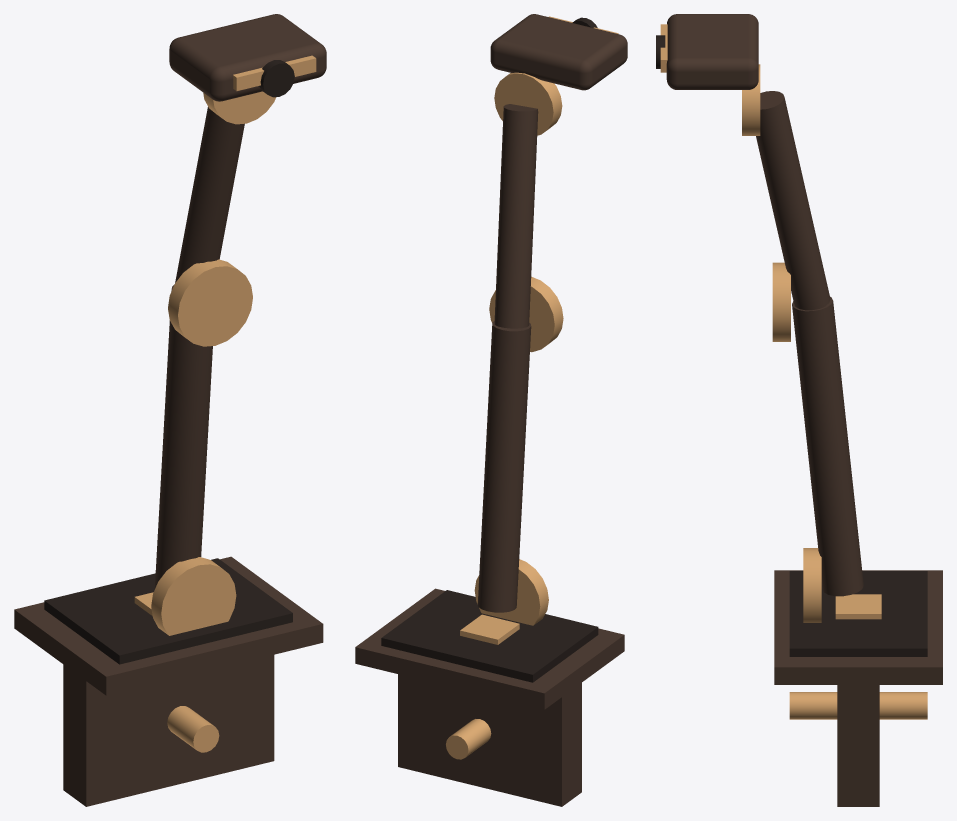
3 views of the same model, side by side, from view 1: azimuth 30°, elevation 25°; view 2: azimuth 150°, elevation 25°; view 3: azimuth 270°, elevation 25° (orthographic). The views are drawn at different scales.
Parts seen in each view (by area): view 1: mount-clamp-jaw, mount-frame, mount-arm-lower, mount-clearance, camera-cradle, mount-arm-upper, mount-pivot-mid, mount-pivot-lower, mount-screw, mount-pivot-upper, mount-rubber, mount-trim; view 2: mount-clamp-jaw, mount-arm-lower, mount-clearance, mount-frame, mount-arm-upper, camera-cradle, mount-pivot-upper, mount-pivot-mid, mount-pivot-lower, mount-screw, mount-anchor; view 3: mount-arm-lower, mount-clearance, mount-arm-upper, mount-frame, camera-cradle, mount-clamp-jaw, mount-screw, mount-pivot-mid, mount-pivot-lower, mount-anchor, mount-pivot-upper.
Part boxes in pixels (bbox=[...]): mount-clamp-jaw: bbox=[63, 655, 274, 806]; mount-frame: bbox=[14, 556, 323, 695]; mount-arm-lower: bbox=[154, 284, 212, 588]; mount-clearance: bbox=[44, 558, 292, 664]; camera-cradle: bbox=[169, 14, 326, 101]; mount-arm-upper: bbox=[175, 107, 244, 282]; mount-pivot-mid: bbox=[168, 259, 252, 346]; mount-pivot-lower: bbox=[151, 557, 236, 635]; mount-screw: bbox=[167, 706, 219, 752]; mount-pivot-upper: bbox=[203, 91, 275, 124]; mount-rubber: bbox=[259, 60, 294, 97]; mount-trim: bbox=[233, 55, 316, 91]; mount-clamp-jaw: bbox=[398, 674, 581, 806]; mount-arm-lower: bbox=[477, 321, 531, 612]; mount-clearance: bbox=[381, 590, 598, 682]; mount-frame: bbox=[355, 588, 624, 709]; mount-arm-upper: bbox=[494, 104, 538, 328]; camera-cradle: bbox=[490, 14, 627, 90]; mount-pivot-upper: bbox=[494, 72, 562, 135]; mount-pivot-mid: bbox=[489, 276, 563, 352]; mount-pivot-lower: bbox=[474, 559, 548, 625]; mount-screw: bbox=[446, 719, 491, 759]; mount-anchor: bbox=[460, 614, 519, 644]; mount-arm-lower: bbox=[792, 296, 863, 596]; mount-clearance: bbox=[789, 571, 927, 656]; mount-arm-upper: bbox=[756, 91, 830, 310]; mount-frame: bbox=[774, 570, 942, 684]; camera-cradle: bbox=[666, 14, 758, 89]; mount-clamp-jaw: bbox=[837, 685, 879, 806]; mount-screw: bbox=[789, 692, 927, 719]; mount-pivot-mid: bbox=[772, 262, 790, 341]; mount-pivot-lower: bbox=[803, 548, 821, 622]; mount-anchor: bbox=[835, 594, 881, 619]; mount-pivot-upper: bbox=[742, 64, 760, 135].
Bounding box in the file's own units: 0.3 × 1.05 × 0.374.
